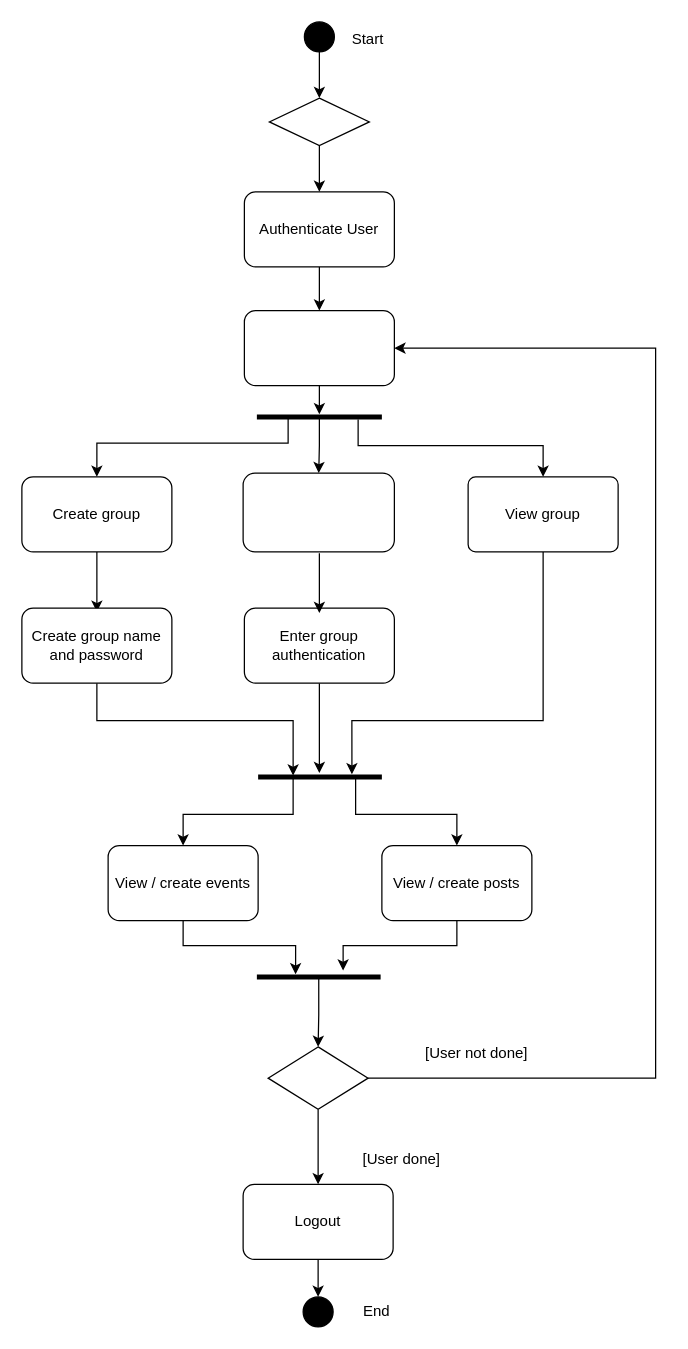
Image size: 688x1349. Some labels were removed from this diagram. Each missing label, with the centre of its shape:
Finished: the point at 317,1077
Join group: the point at 318,512
Select option: the point at 318,347
User: the point at 318,121
